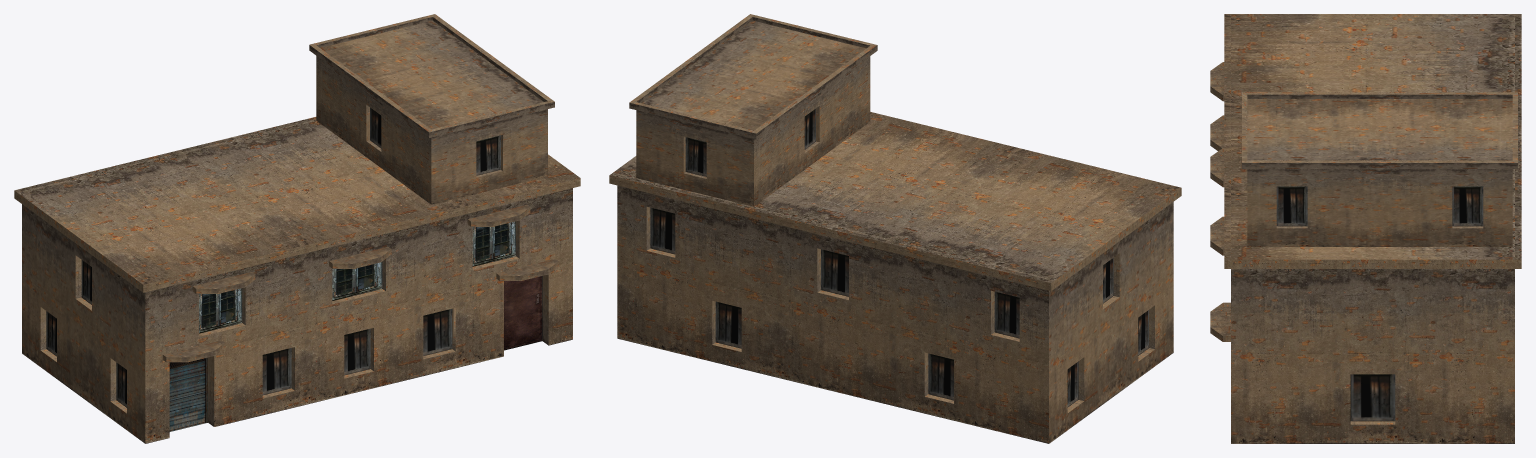
The model's file is BuildingC.fbx.
The picture shows the model from 3 angles, left to right: view 1: azimuth 30°, elevation 25°; view 2: azimuth 150°, elevation 25°; view 3: azimuth 270°, elevation 25°; orthographic projection. The views are drawn at different scales.
Visible parts, largest first — view 1: BuildingC; view 2: BuildingC; view 3: BuildingC.
Part boxes in pixels (x1=…): BuildingC: x1=14, y1=14, x2=580, y2=443; BuildingC: x1=609, y1=14, x2=1181, y2=443; BuildingC: x1=1210, y1=14, x2=1521, y2=443.
Size of the model in its own units: 1466 by 761 by 785.
